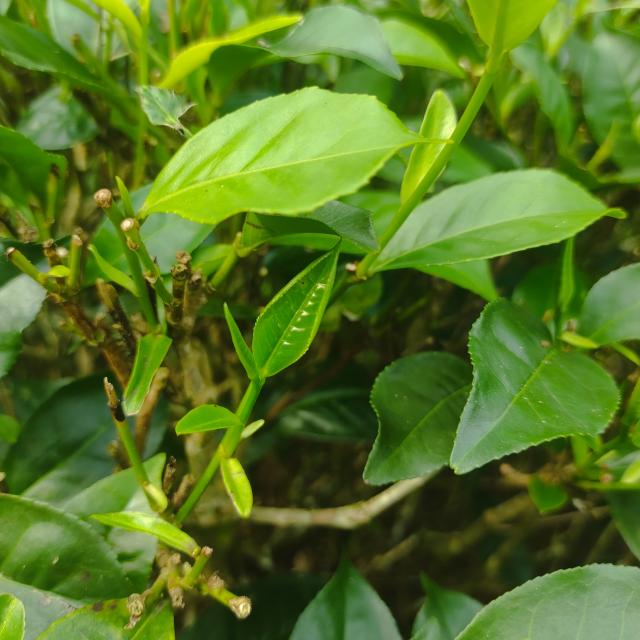unopened_leaf: (218, 298, 270, 388), (550, 232, 582, 336)
